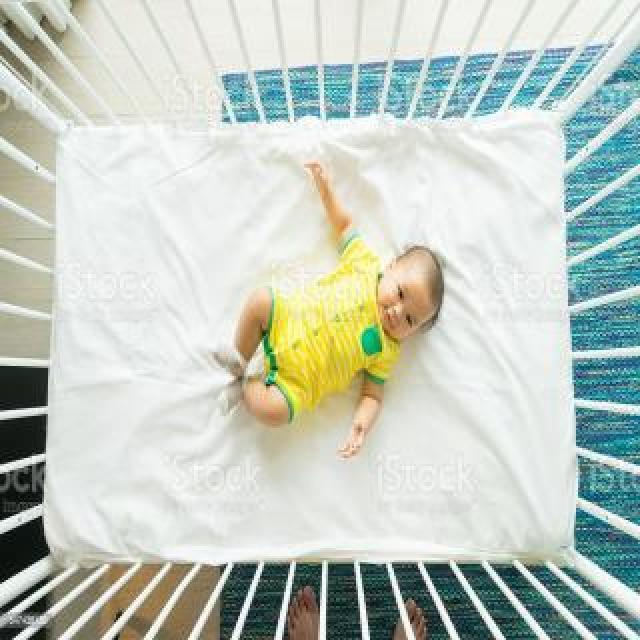baby: (214, 158, 446, 456)
